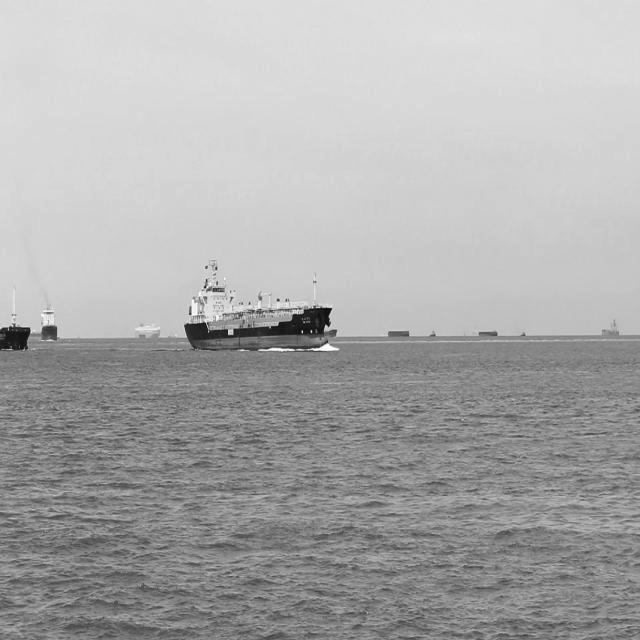ship: (183, 254, 335, 353), (0, 280, 32, 352), (40, 300, 60, 341), (133, 322, 160, 341), (601, 316, 622, 340), (324, 326, 336, 339), (32, 327, 42, 340)
